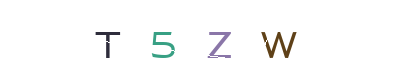5: (170, 0, 250, 80)
T: (122, 0, 202, 80)
W: (182, 0, 262, 80)
Z: (178, 0, 258, 80)
